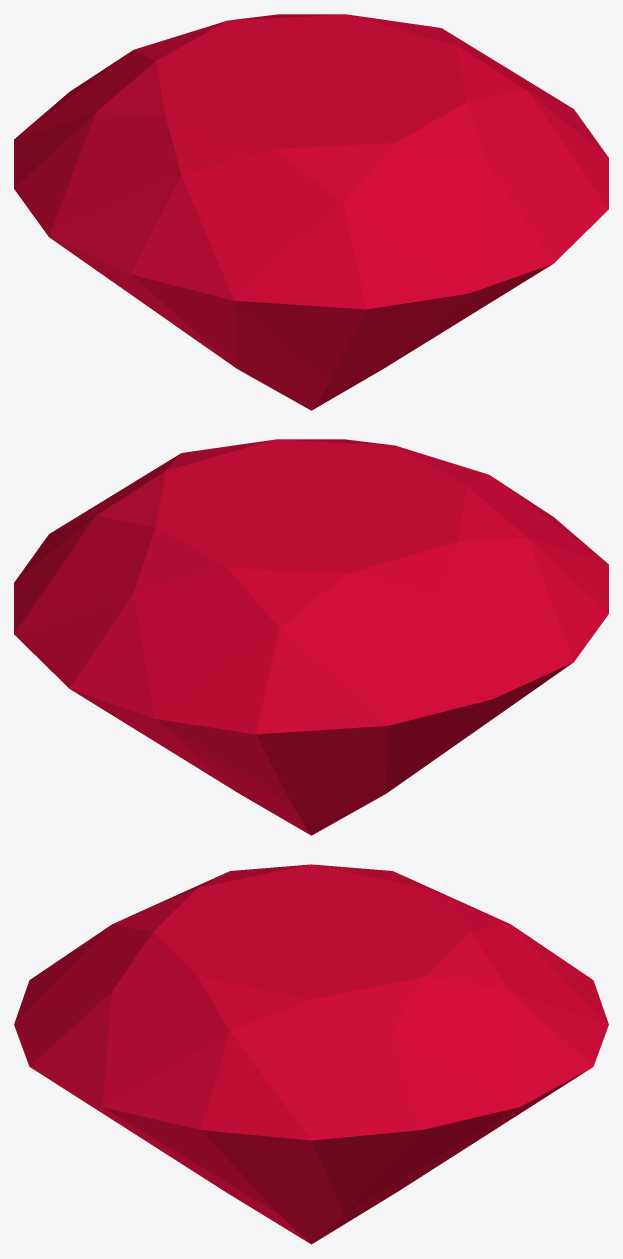
Rendered from Garnet.fbx.
3 renders of one model, top to bottom at view 1: azimuth 30°, elevation 25°; view 2: azimuth 150°, elevation 25°; view 3: azimuth 270°, elevation 25°, orthographic. The views are drawn at different scales.
Parts seen in each view (by area): view 1: Plane; view 2: Plane; view 3: Plane.
Part boxes in pixels (x1,y1,x2,y2): Plane: [14, 14, 608, 410]; Plane: [14, 439, 608, 835]; Plane: [14, 864, 608, 1244].
Size of the model in its own units: 516 by 309 by 534.
